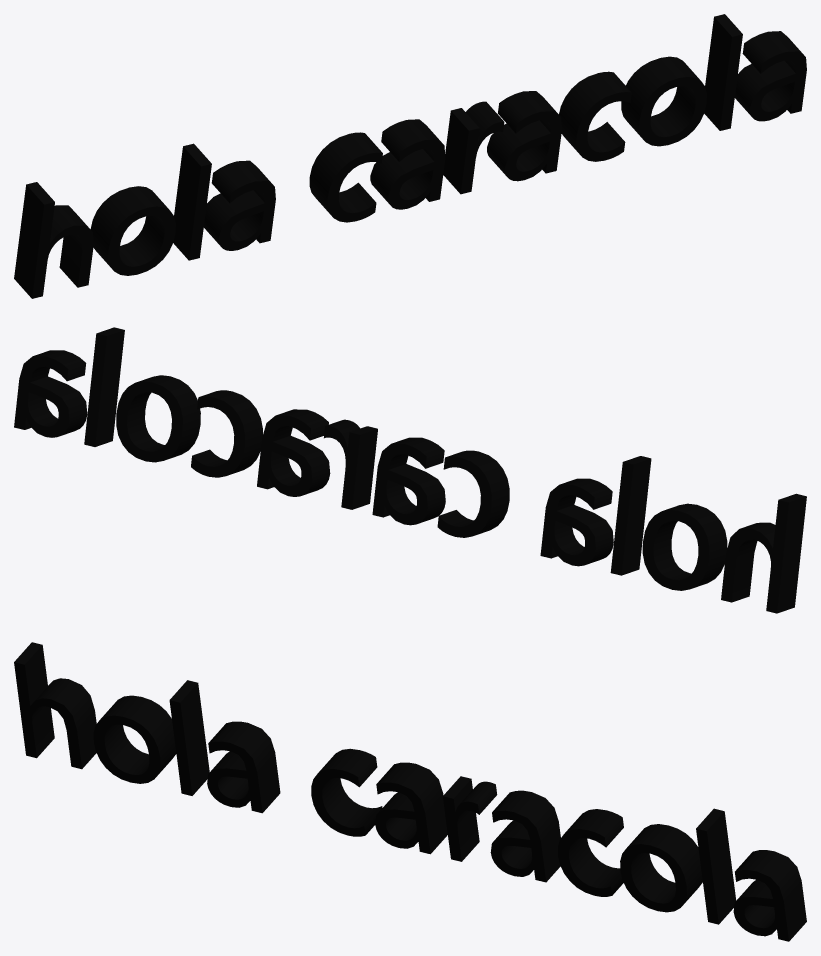
The picture shows the model from 3 angles, top to bottom: view 1: azimuth 30°, elevation 25°; view 2: azimuth 150°, elevation 25°; view 3: azimuth 330°, elevation 25°; orthographic projection.
Parts seen in each view (by area): view 1: mesh_id33; view 2: mesh_id33; view 3: mesh_id33.
Boxes of the visible parts, box(x1,y1,x2,y2) form: mesh_id33: box(14, 14, 806, 298); mesh_id33: box(14, 327, 806, 613); mesh_id33: box(14, 642, 806, 941).
Size of the model in its own units: 0.3608 by 0.0501 by 0.0247.
1 material, 1 textured.
